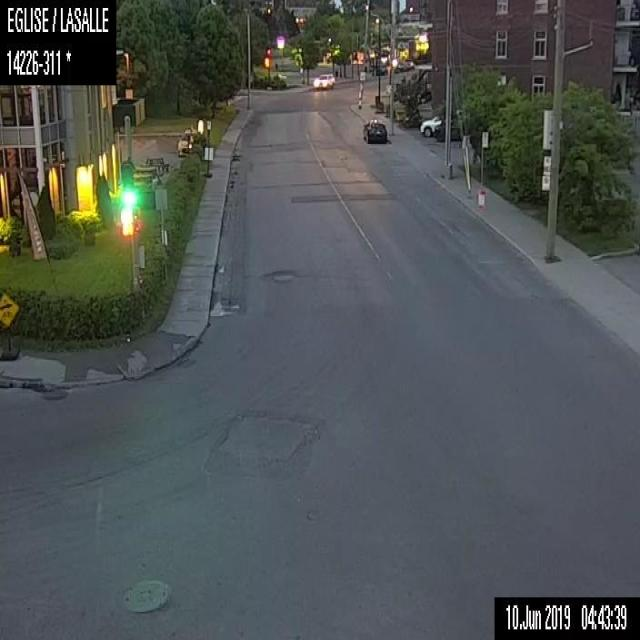vehicle: (361, 117, 387, 143), (420, 112, 441, 138), (178, 126, 198, 153), (312, 72, 333, 88)
